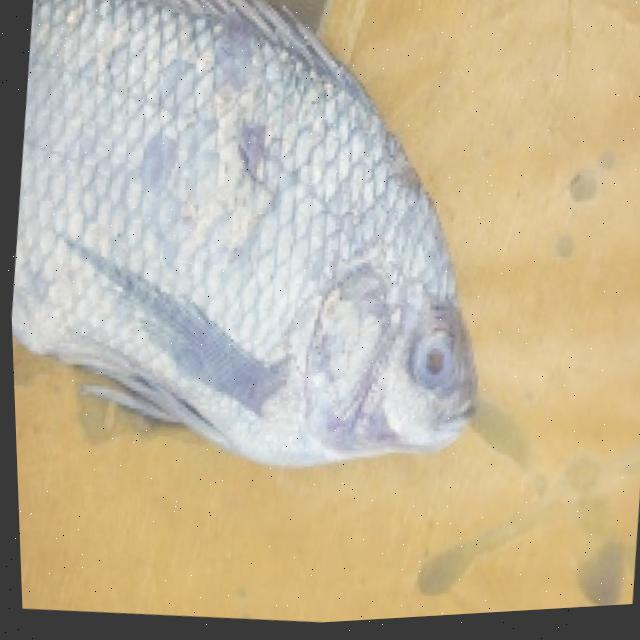Non-Fresh: (389, 309, 467, 407)
